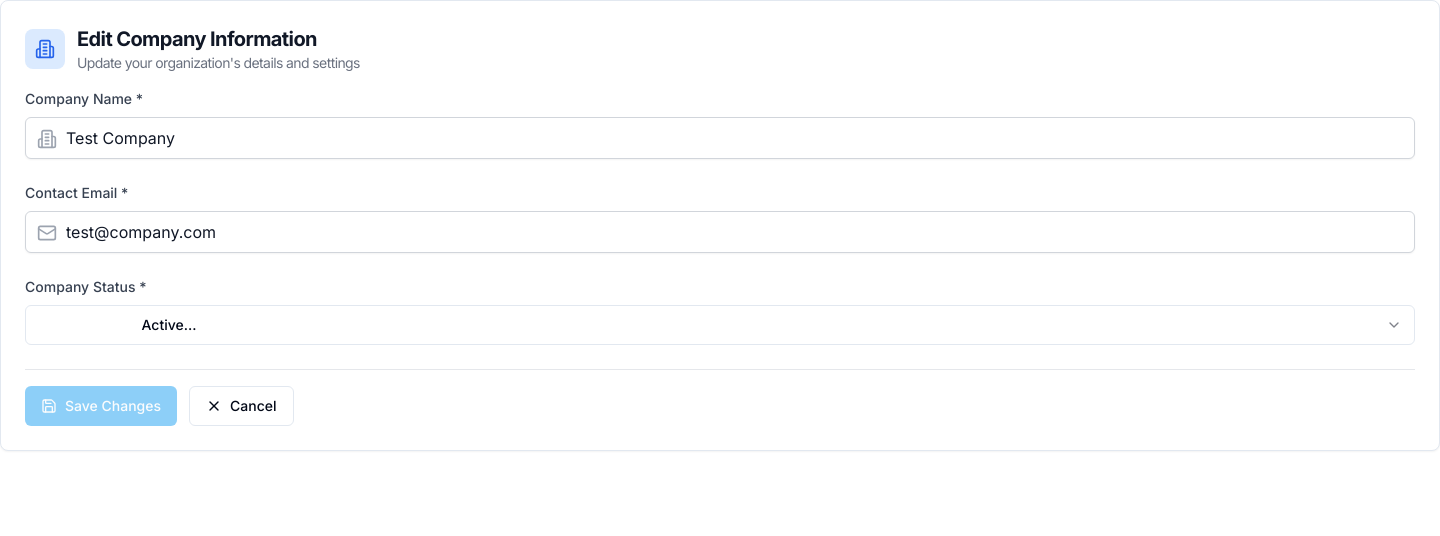
it: CompanyEditForm › Form Validation › should show validation error for short company name
Replace the text in the field showing "Test Company" with "A" at (720, 138), box x1=25 y1=117 x2=1415 y2=159
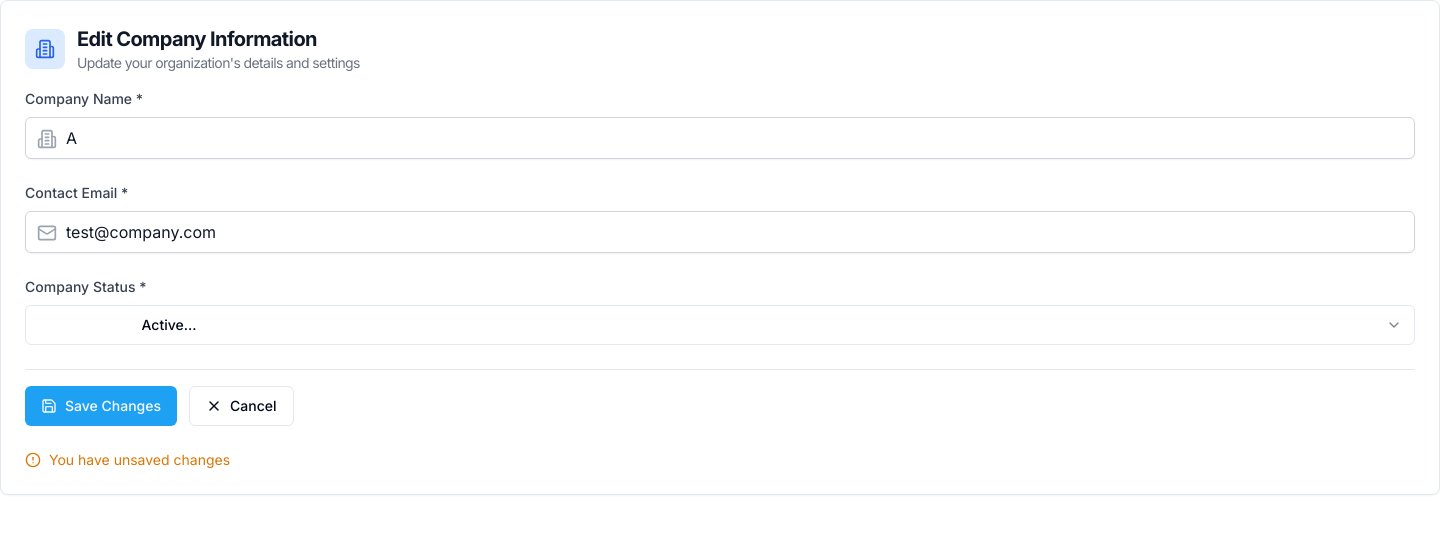
Click the button "Save Changes" at (101, 406), box x1=25 y1=386 x2=177 y2=426
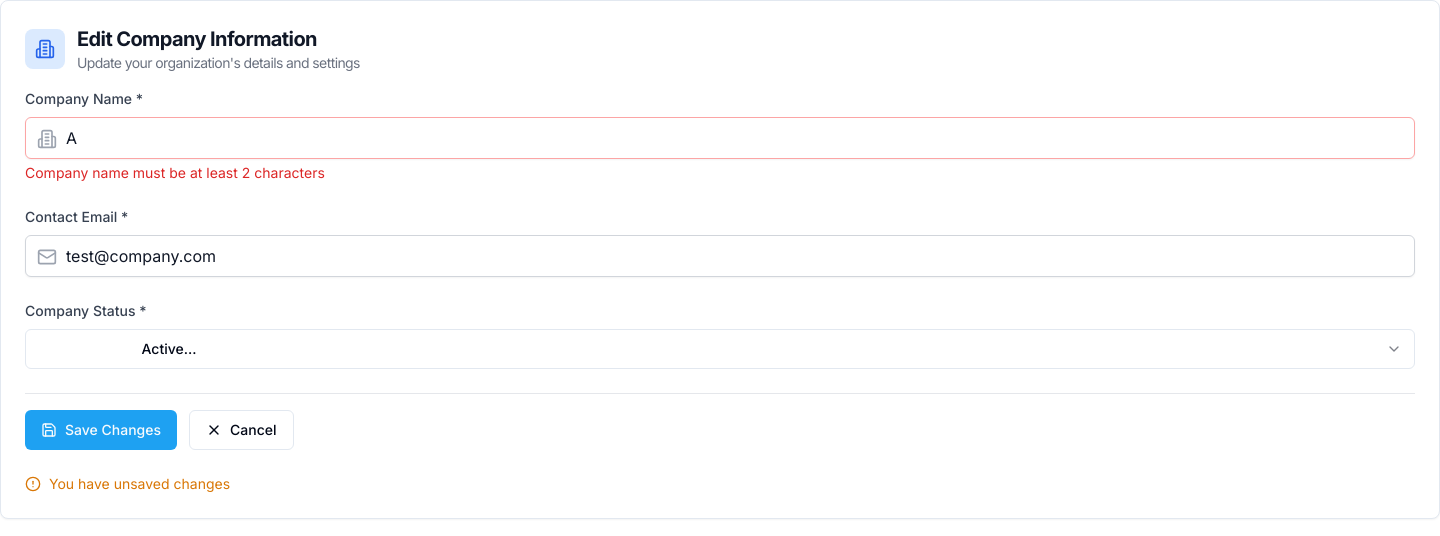
Now the text "Company name must be at least 2 characters" is shown, box x1=25 y1=164 x2=325 y2=181
